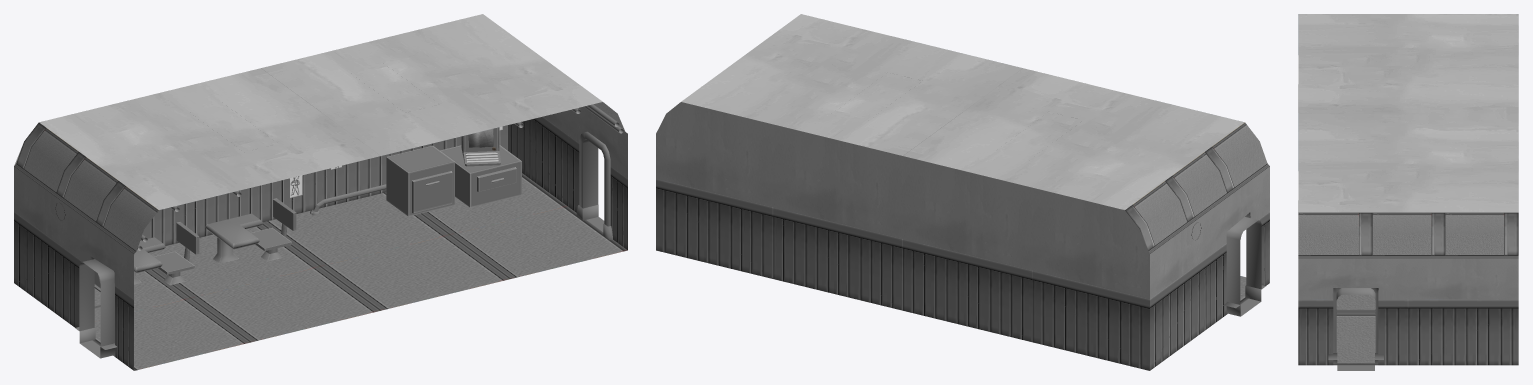
The model's file is MSH_Class_room_L1_R2_optimized.fbx.
The picture shows the model from 3 angles, left to right: view 1: azimuth 30°, elevation 25°; view 2: azimuth 150°, elevation 25°; view 3: azimuth 270°, elevation 25°; orthographic projection. The views are drawn at different scales.
Visible parts, largest first — view 1: lightmap1, lightmap0, lightmap-1; view 2: lightmap1, lightmap-1; view 3: lightmap1, lightmap-1.
Part boxes in pixels (x1=…): lightmap1: x1=14, y1=14, x2=627, y2=370; lightmap0: x1=55, y1=104, x2=623, y2=308; lightmap-1: x1=79, y1=139, x2=604, y2=358; lightmap1: x1=656, y1=14, x2=1269, y2=370; lightmap-1: x1=1226, y1=217, x2=1261, y2=316; lightmap1: x1=1298, y1=14, x2=1518, y2=365; lightmap-1: x1=1336, y1=288, x2=1375, y2=370.
Bounding box in the file's own units: 20.61 × 5.88 × 8.26.
